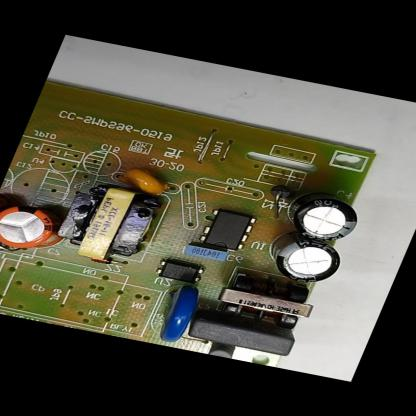Cap1: (0, 193, 75, 259)
Cap2: (0, 193, 13, 232)
Cap3: (254, 224, 352, 292)
Cap4: (272, 188, 370, 248)
MOSFET: (191, 202, 261, 258)
Mov: (146, 275, 212, 347)
Resistor: (202, 338, 245, 360)
Transformer: (50, 170, 171, 269), (209, 263, 325, 337)
